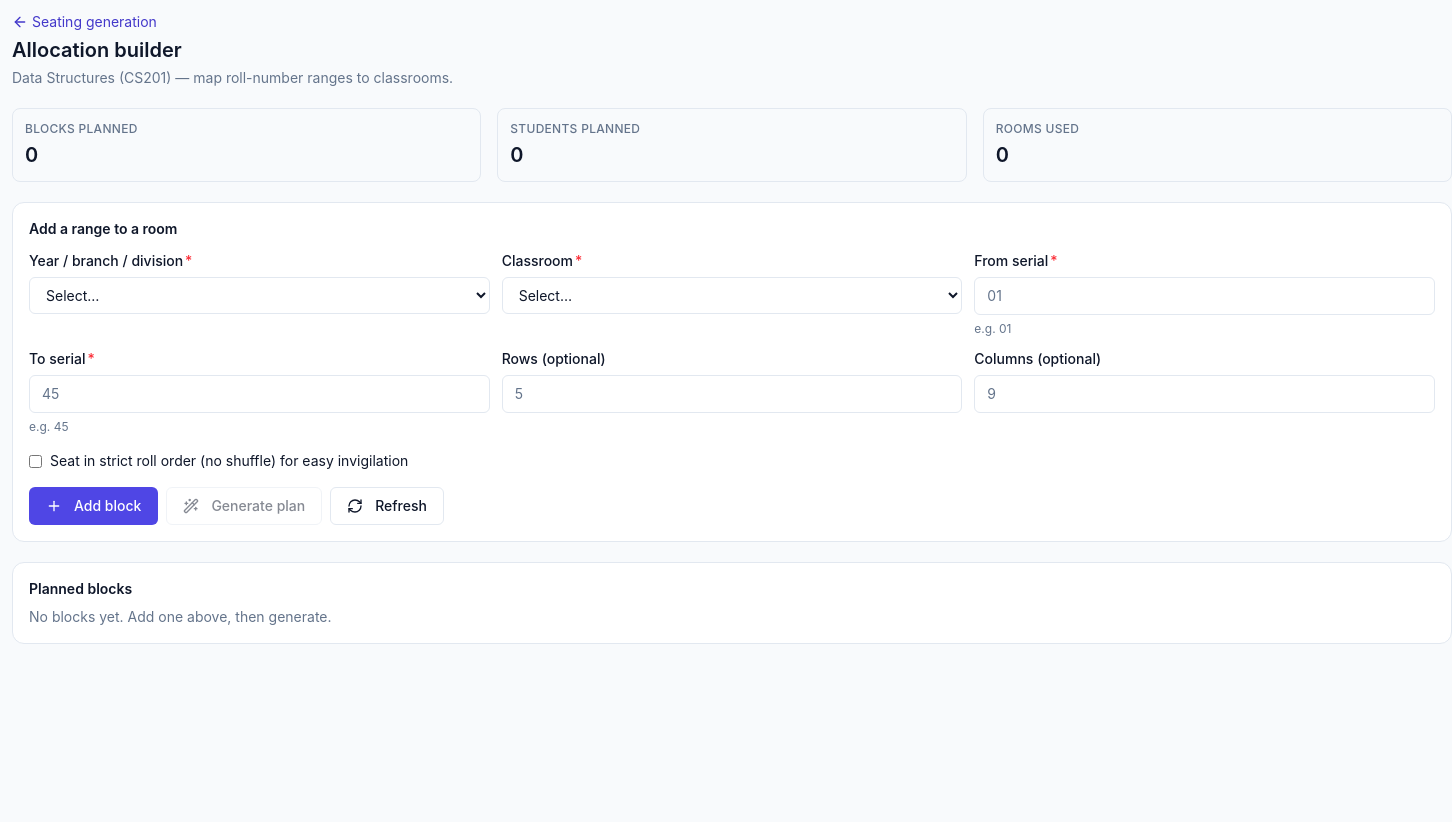
Test: AllocationBuilderPage › requires both grid dimensions together
Select "SE · AIDS · C (30)" in the dropdown labelled "Year / branch / division*": (259, 296) 29,277 -> 490,314
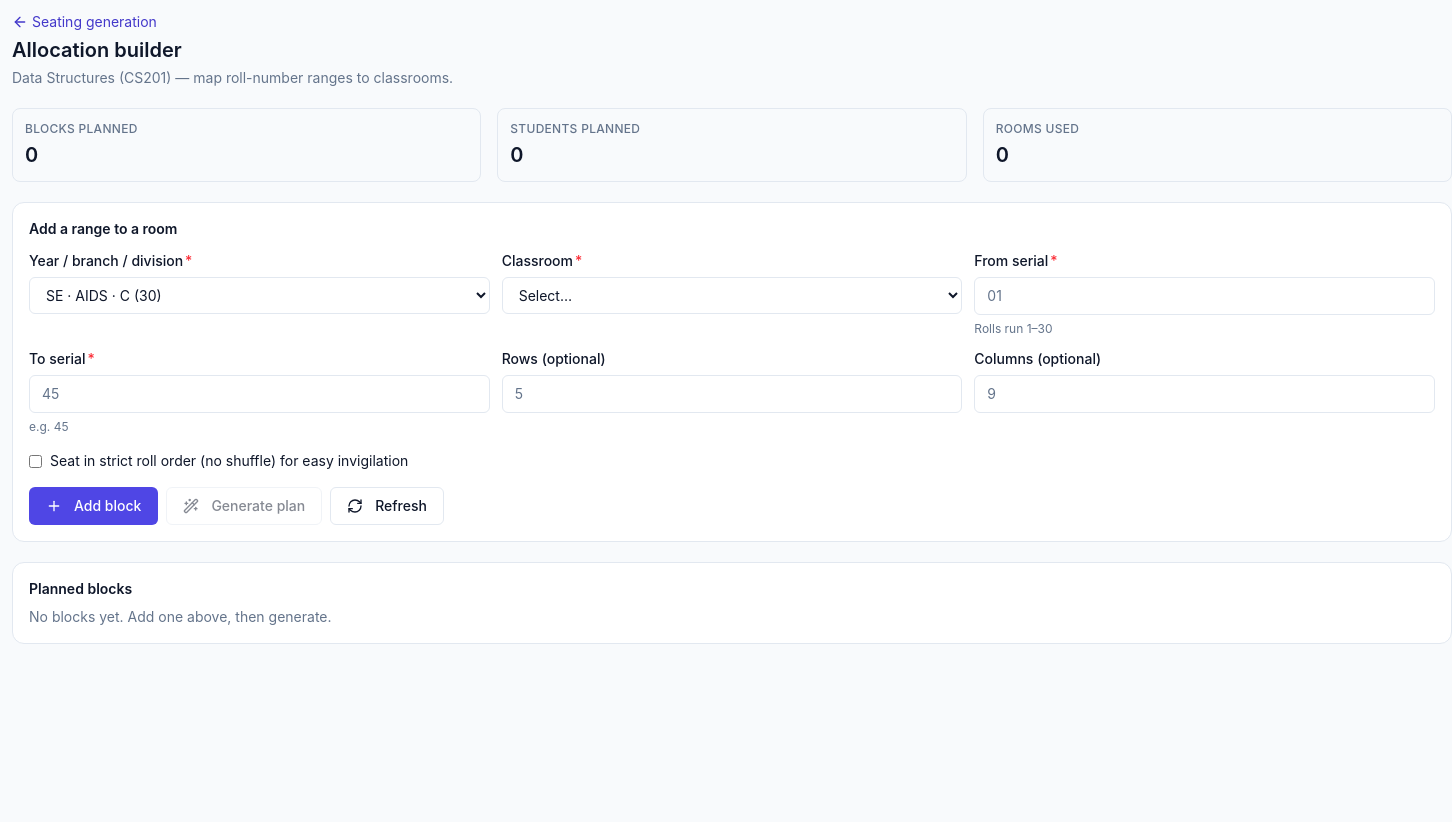
Select "706 · Floor 7 (60 free)" in the dropdown labelled "Classroom*": (732, 296) 502,277 -> 962,314
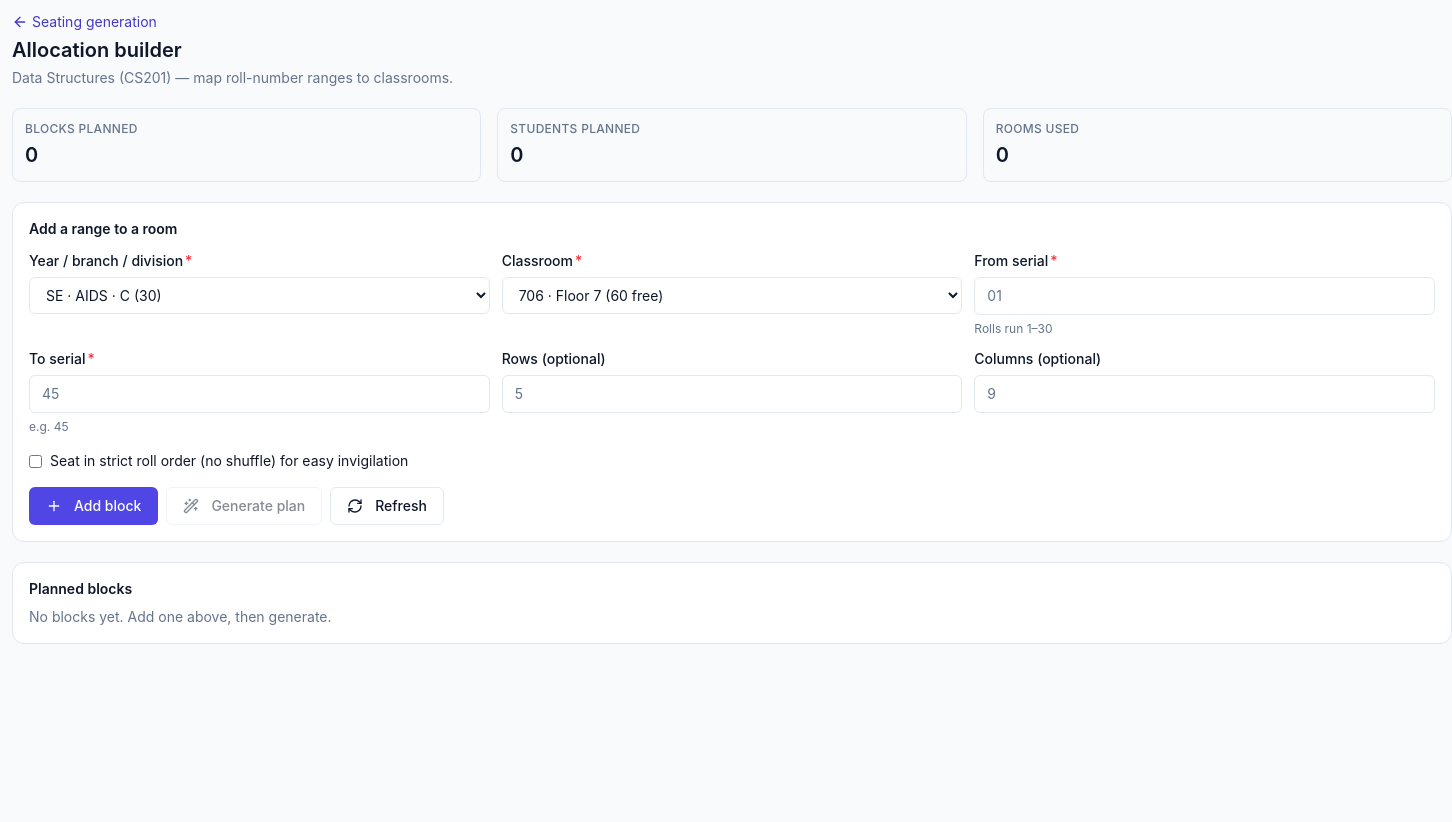
In the number field labelled "From serial*": (1205, 296) 974,277 -> 1435,315, type "1"
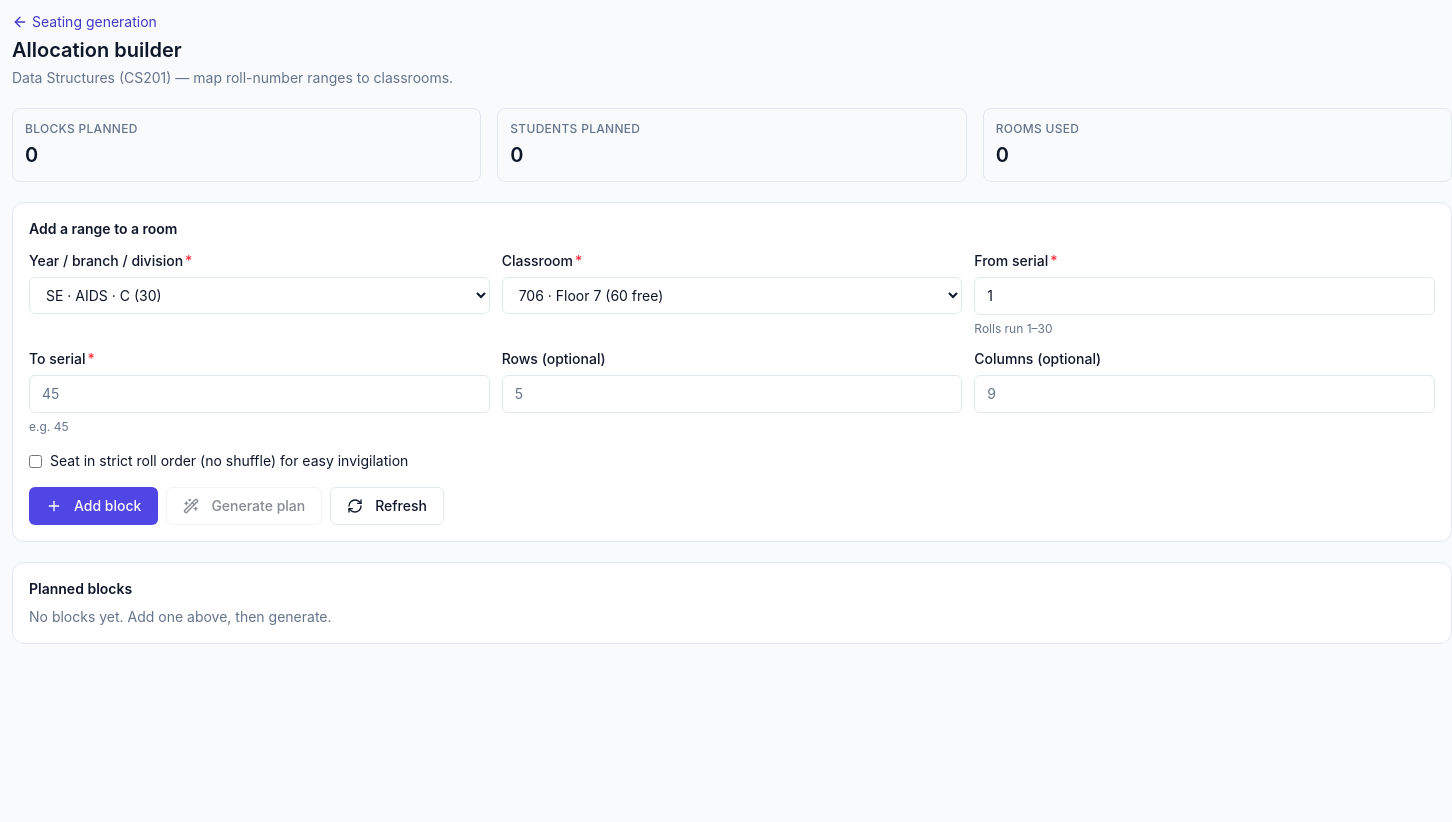
In the number field labelled "To serial*": (259, 394) 29,375 -> 490,413, type "20"
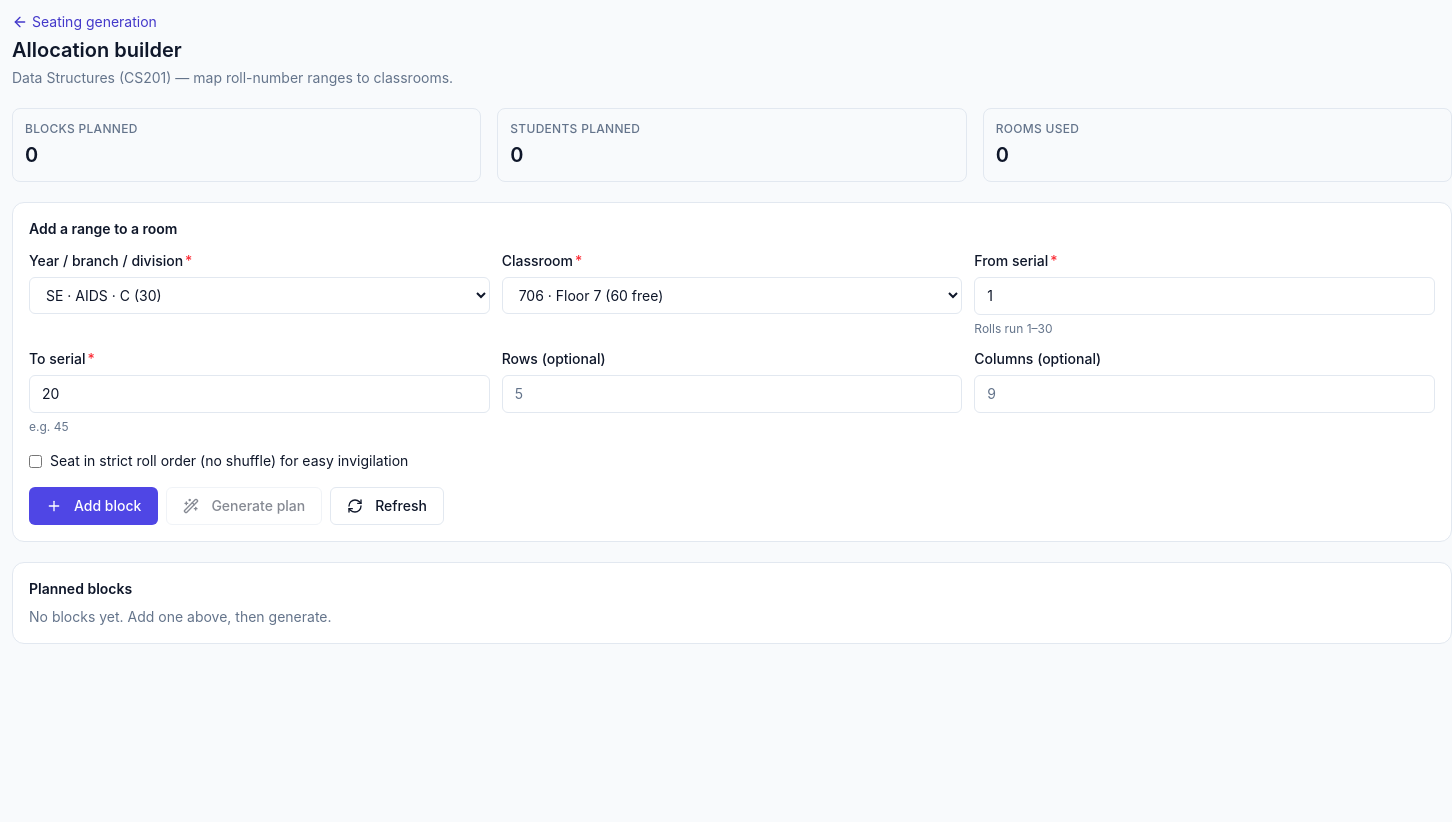
In the number field labelled "Rows (optional)": (732, 394) 502,375 -> 962,413, type "4"
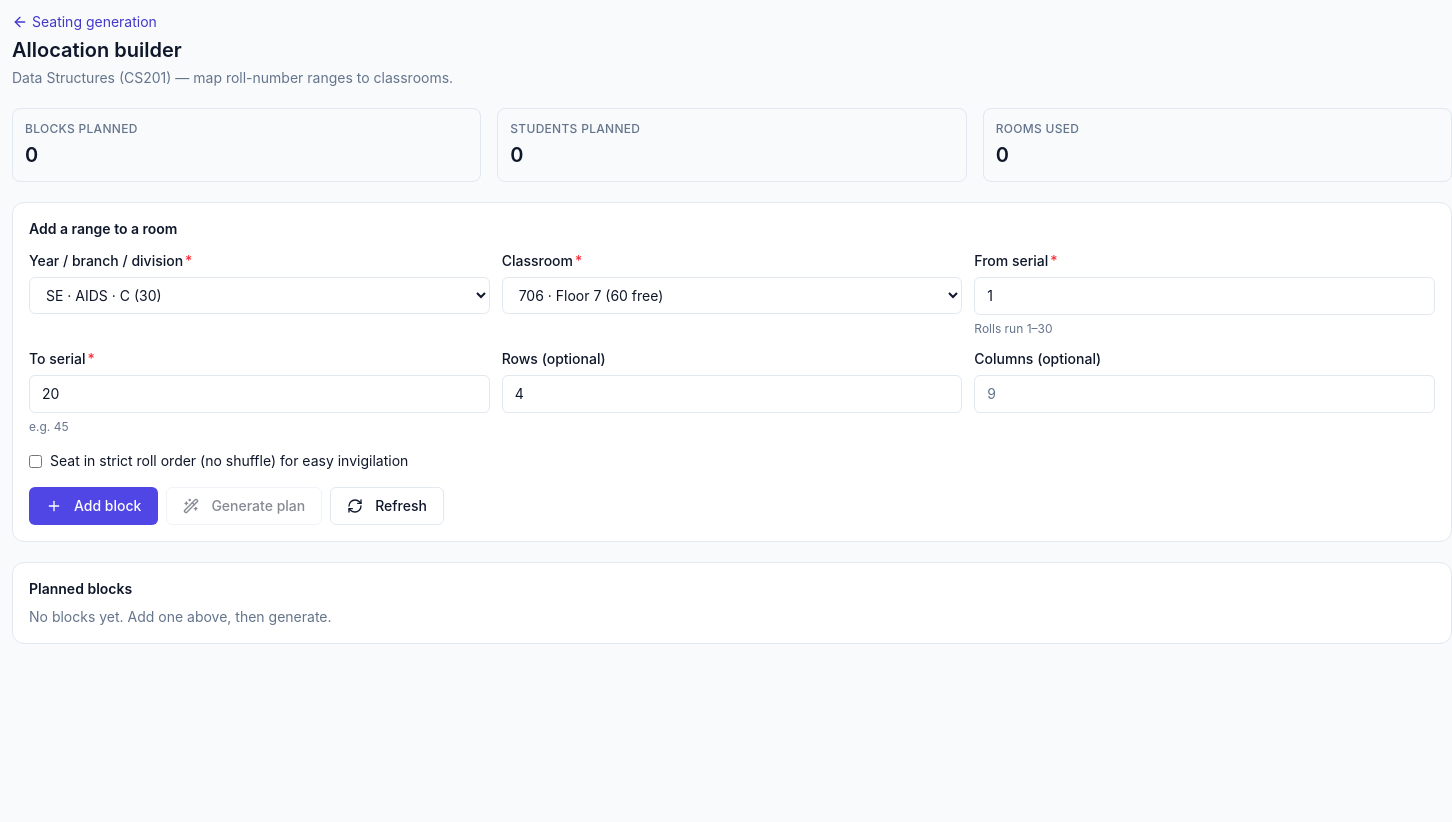
Click the button "Add block": (94, 506) 29,487 -> 158,525
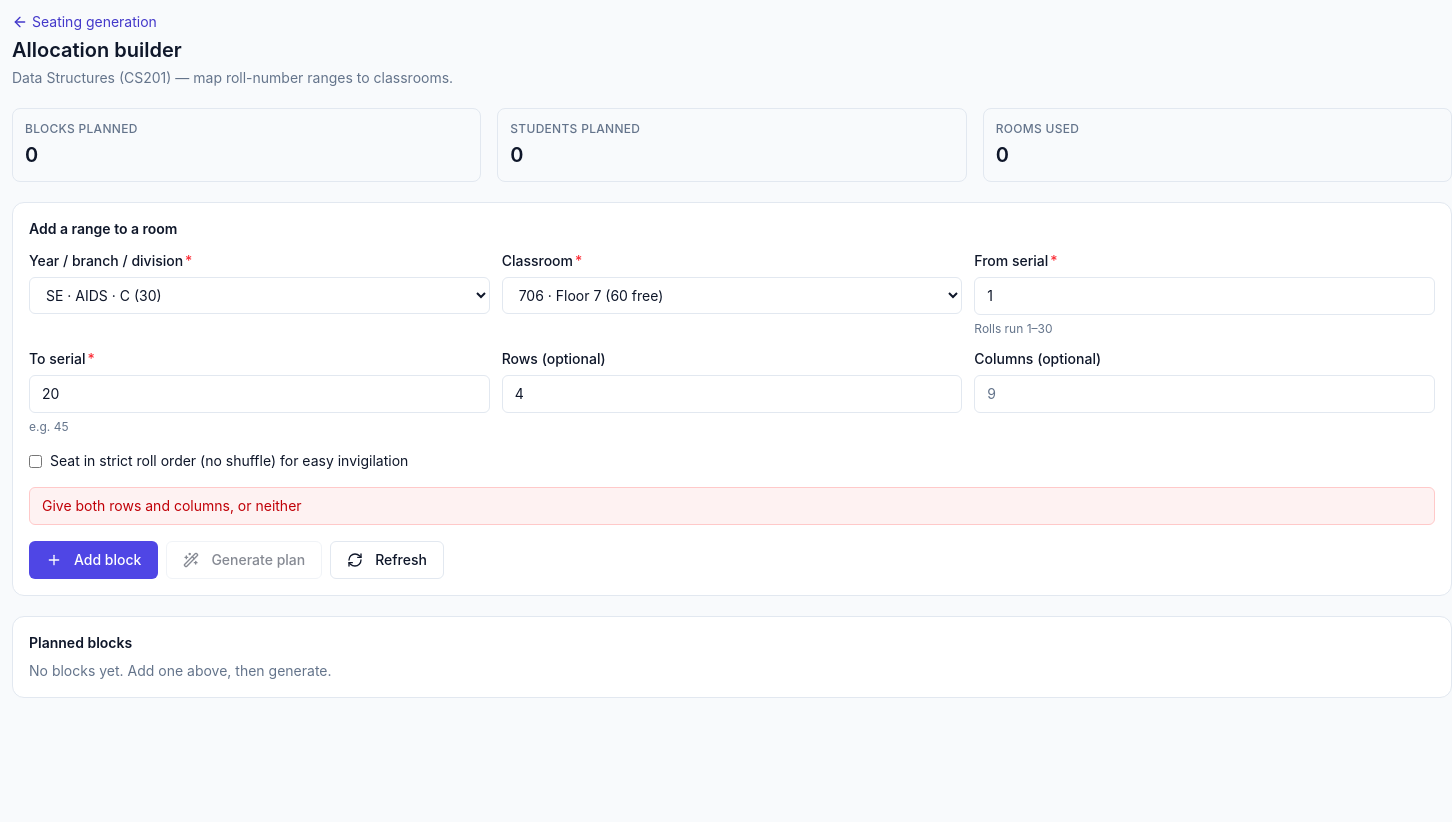
Expected: the message shows "both rows and columns", 42,497 -> 302,514
